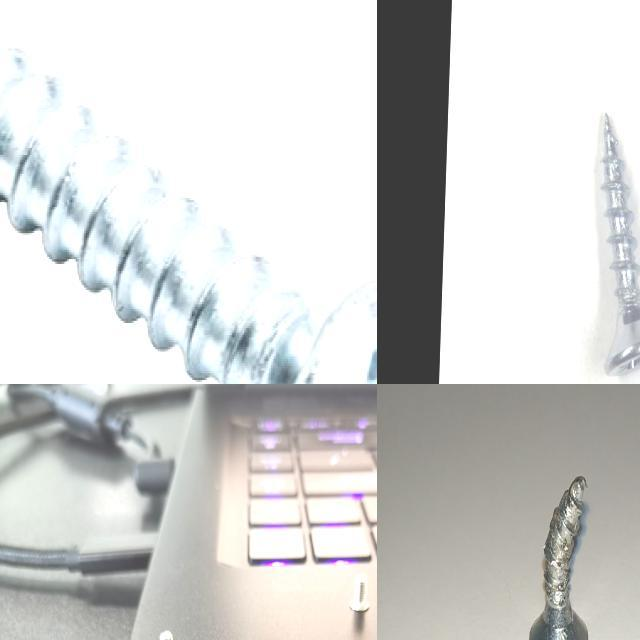Screw: (0, 48, 377, 384), (601, 112, 640, 375), (529, 475, 588, 640), (347, 572, 373, 618), (154, 627, 181, 640)
